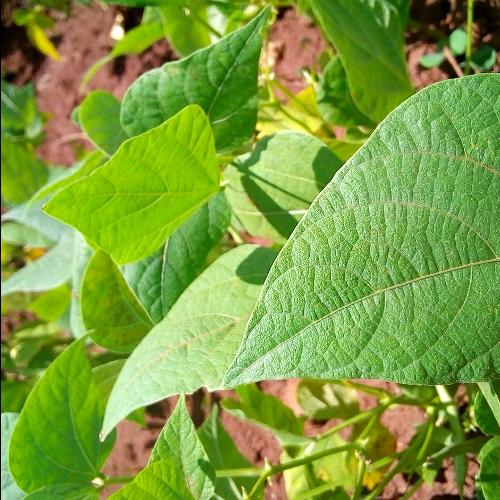sehat: (302, 219, 489, 340)
